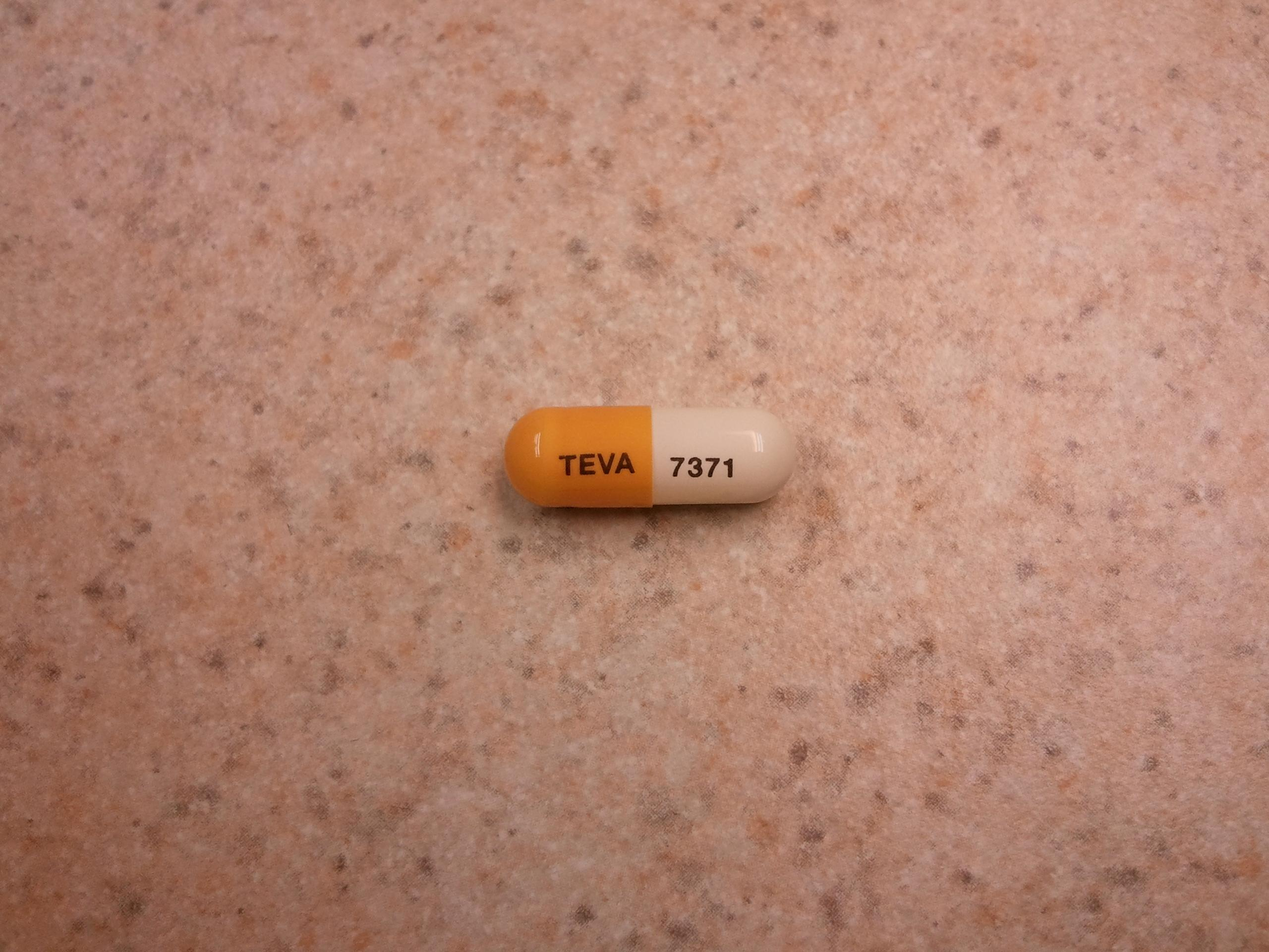Pill: (496, 395, 806, 514)
